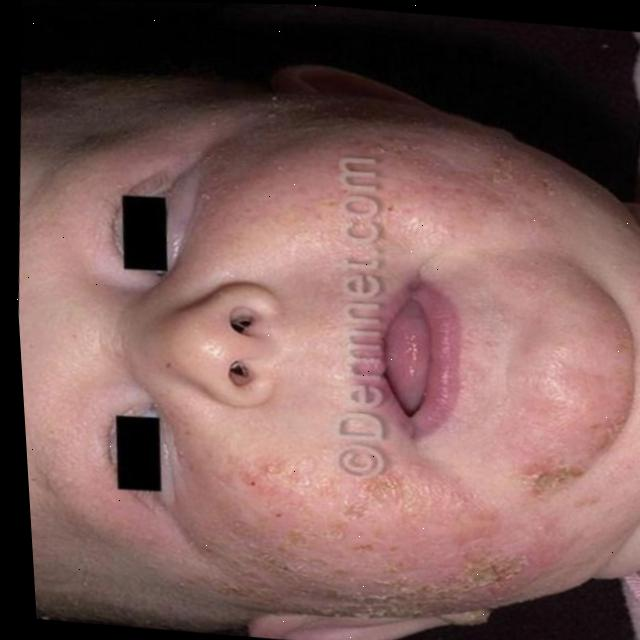Eczema: (167, 114, 630, 617)
